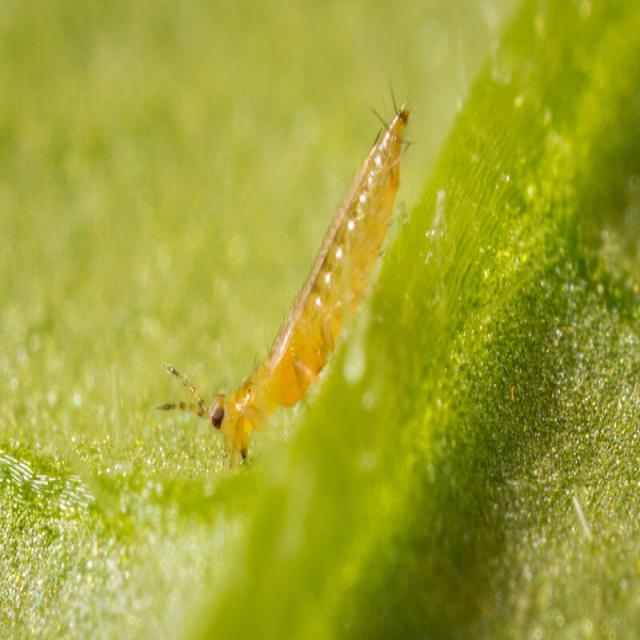Thrip-Larva-: (169, 74, 422, 482)
